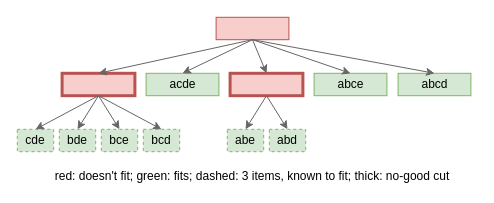
The diagram is 494 pixels wide and 203 high, and some of its shapes have lost their labels. The shapes that lost their labels are listed below. From the top down, each one's centre as x and y in pixels, then its label:
At (x=252, y=28): "abcde".
At (x=98, y=84): "bcde".
At (x=266, y=84): "abde".
